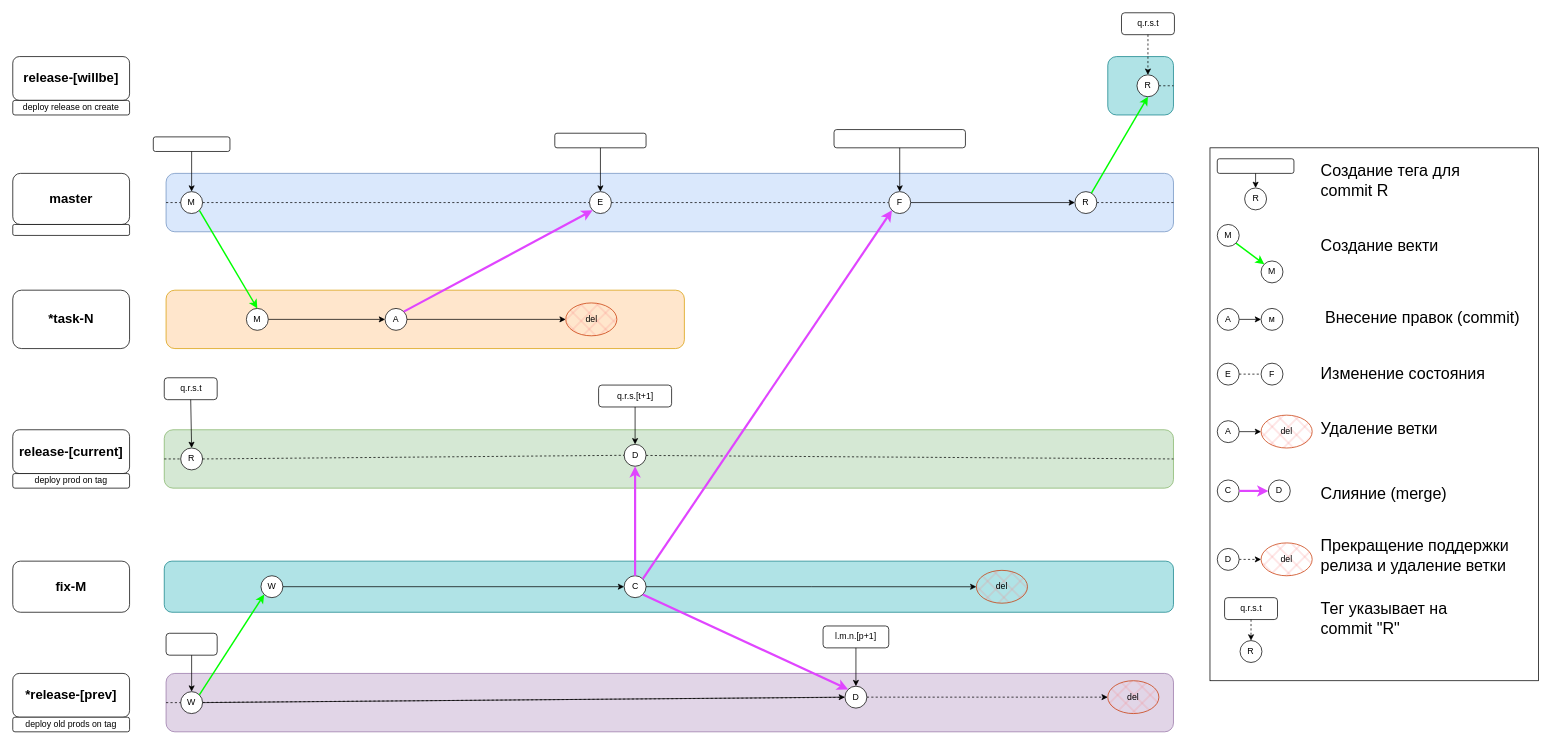
Image size: 1551x745. Some labels were removed from this diagram. Each missing label, with the centre of its shape:
"deploy test (any commit)" goes at pixel 71 229.
"l.m.n.p" goes at pixel 191 644.
"x.[y+1].[0|z+1].0" goes at pixel 600 140.
"x.[y+1].[0|z+1].[patch+1]" goes at pixel 899 138.
"x.y.[0|z].patch" goes at pixel 191 143.
"x.y.z.patch" goes at pixel 1255 165.
